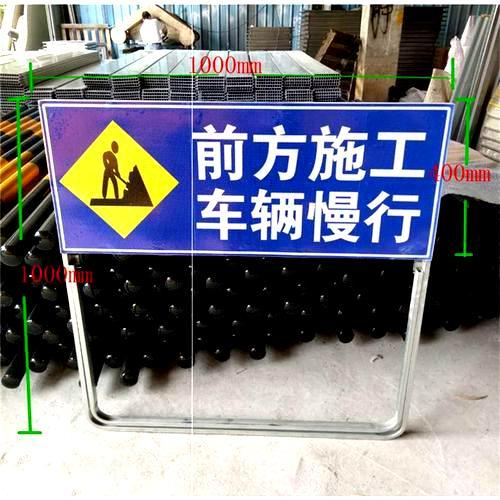sign: (39, 100, 450, 261)
